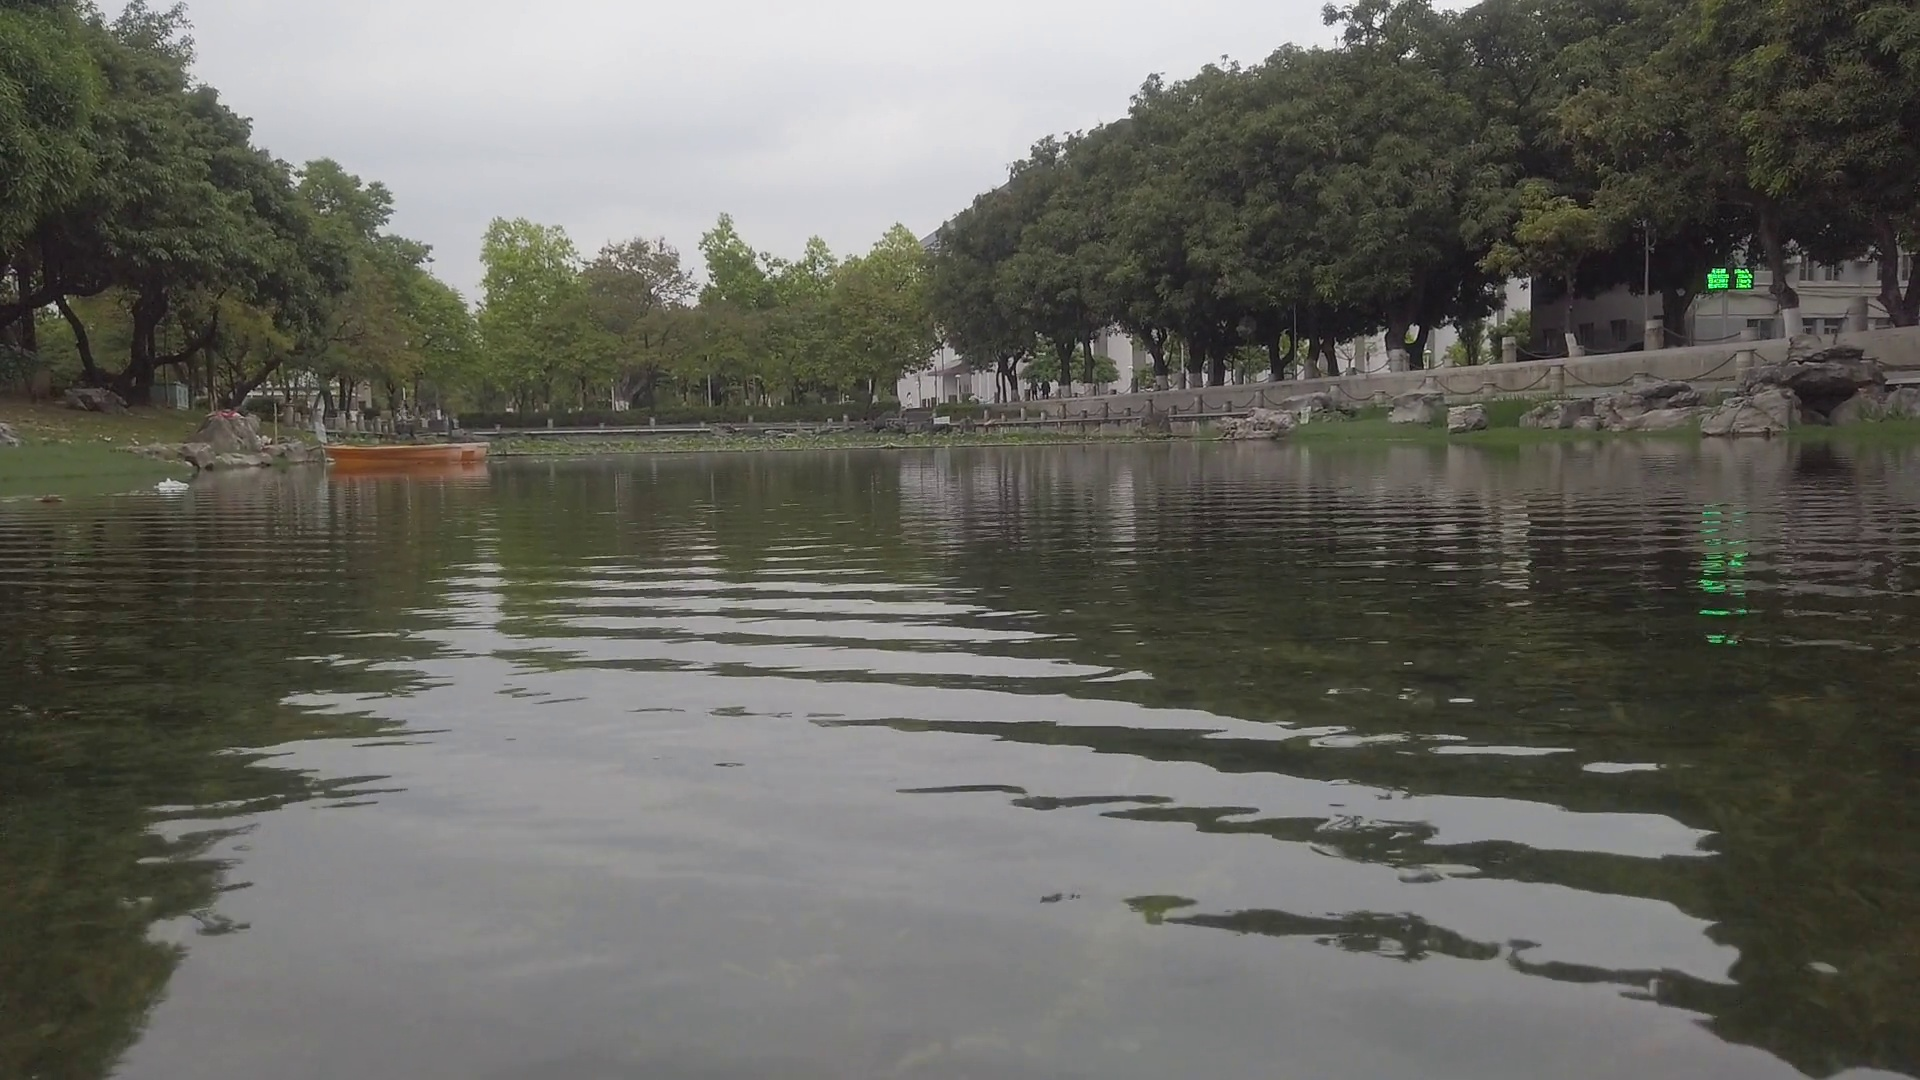plastic: (156, 477, 187, 495)
